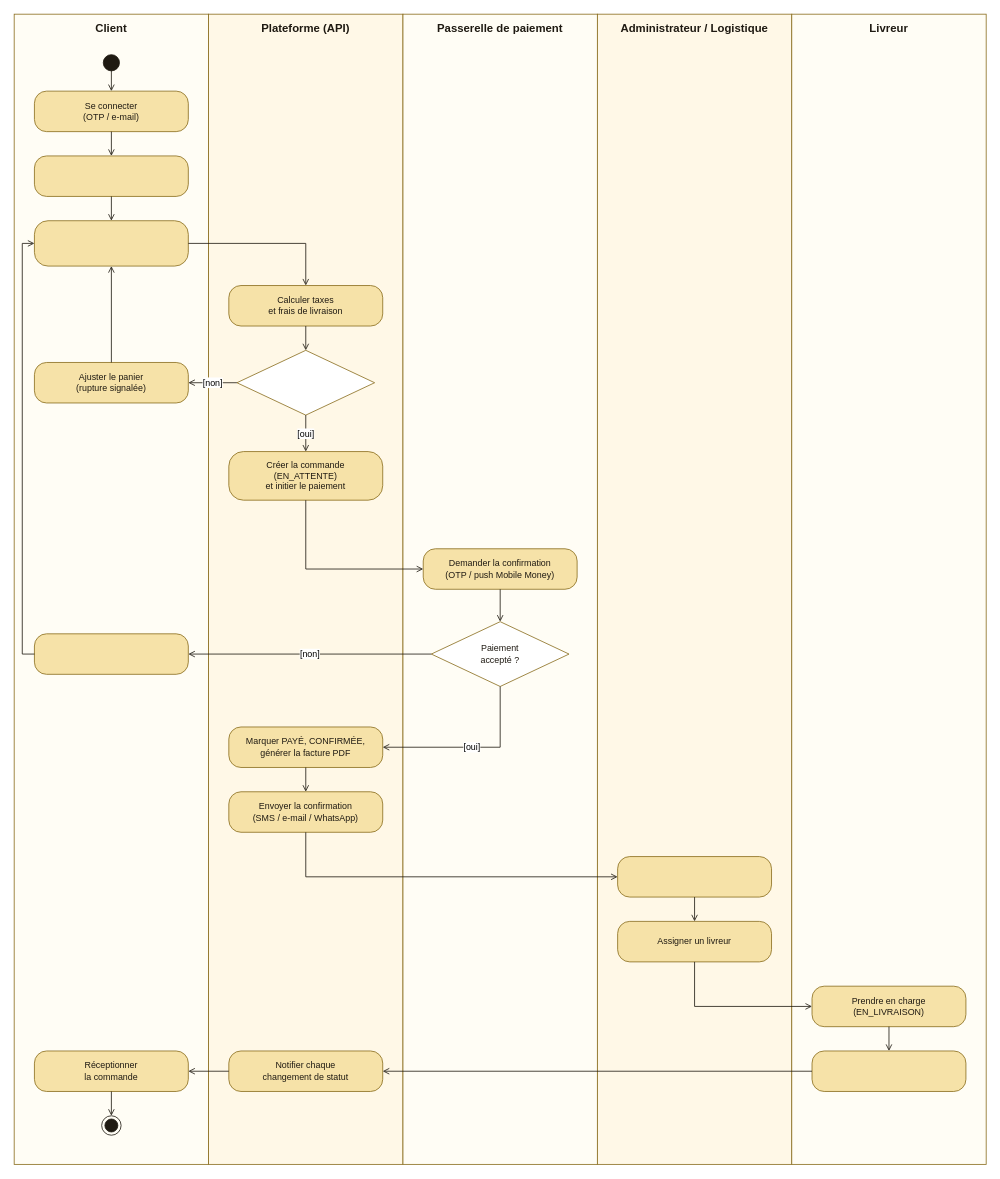
The diagram is 1000 pixels wide and 1179 high, and some of its shapes have lost their labels. The shapes that lost their labels are listed below. From the top down, each one's box as (x1, y1, x2, y2) in pixels, then its label:
(34, 155, 188, 196): Parcourir le catalogue et ajouter au panier
(34, 220, 188, 266): Valider le panier, l'adresse et le mode de paiement
(236, 350, 375, 415): Stock suffisant ?
(34, 633, 188, 674): Constater le refus, choisir un autre mode
(617, 856, 772, 897): Valider et préparer la commande
(811, 1050, 966, 1091): Livrer et remettre au client
